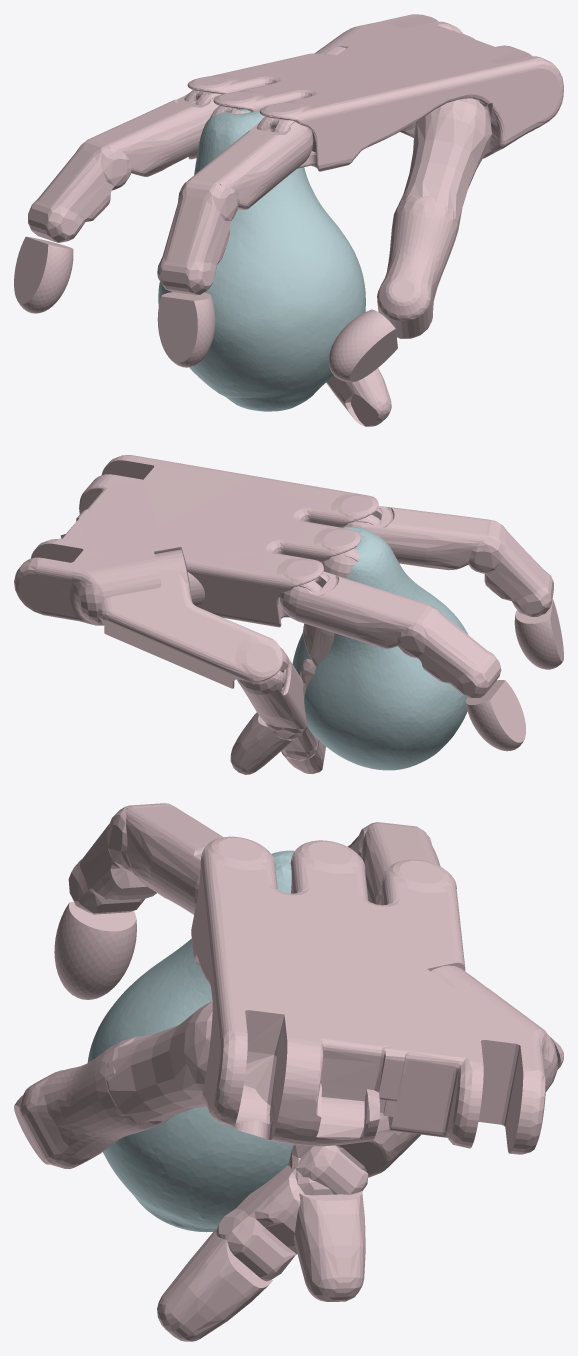
Rendered from grasp_1.glb.
3 views of the same model, one above another, from view 1: azimuth 30°, elevation 25°; view 2: azimuth 150°, elevation 25°; view 3: azimuth 270°, elevation 25° (orthographic). The views are drawn at different scales.
Visible parts, largest first — view 1: world; view 2: world; view 3: world.
Boxes of the visible parts, box(x1,y1,x2,y2) form: world: box(14, 14, 563, 426); world: box(14, 455, 563, 774); world: box(14, 803, 563, 1341).
Bounding box in the file's own units: 0.1896 × 0.1179 × 0.1314.
